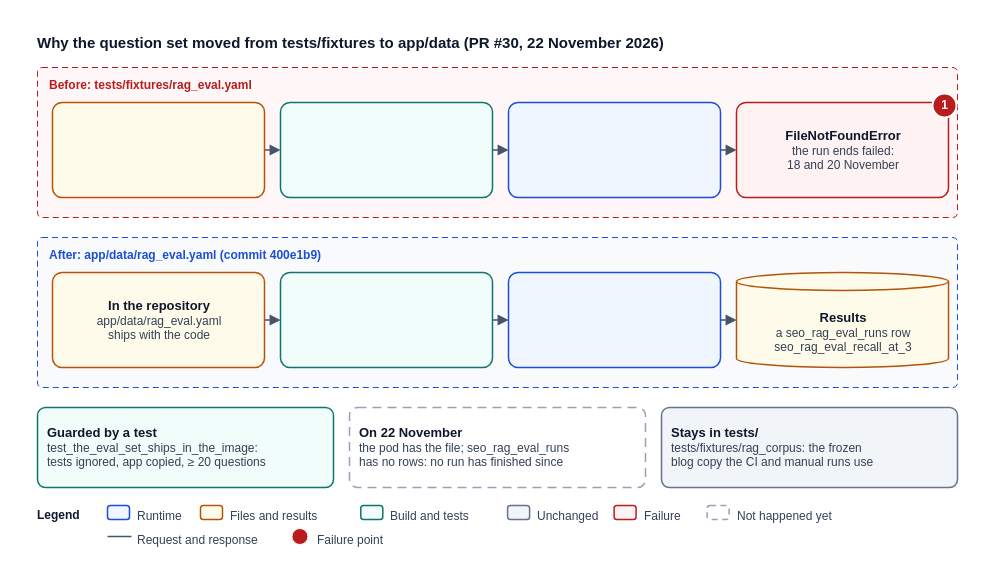
This 994x578 diagram has some shape labels left out. The shapes that lost their labels are listed below. From the top down, each one's centre as x and y in pixels, then its label:
[158,149]: In the repository tests/fixtures/rag_eval.yaml beside the tests using it
[386,149]: docker build .dockerignore lists tests → no tests/ in the image
[614,149]: seo-agent pod (/srv) seo_ml_flow, step rag_eval opens /srv/tests/fixtures/…
[386,319]: docker build COPY app ./app → /srv/app/data/rag_eval.yaml
[614,319]: seo-agent pod (/srv) evaluate("live"), live index no file → skipped, not failed
